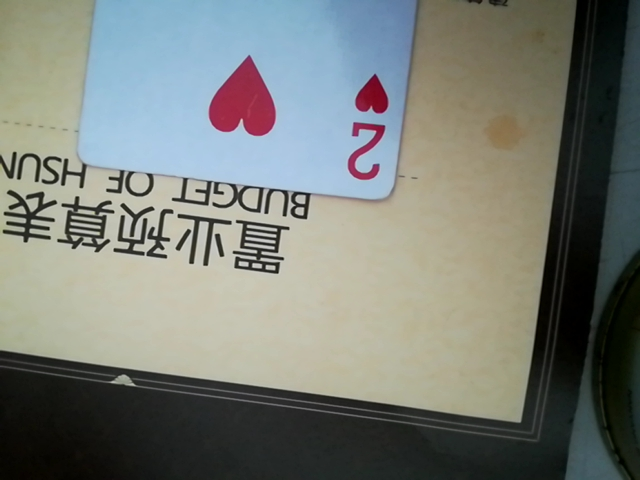hx 2: (76, 0, 435, 206)
